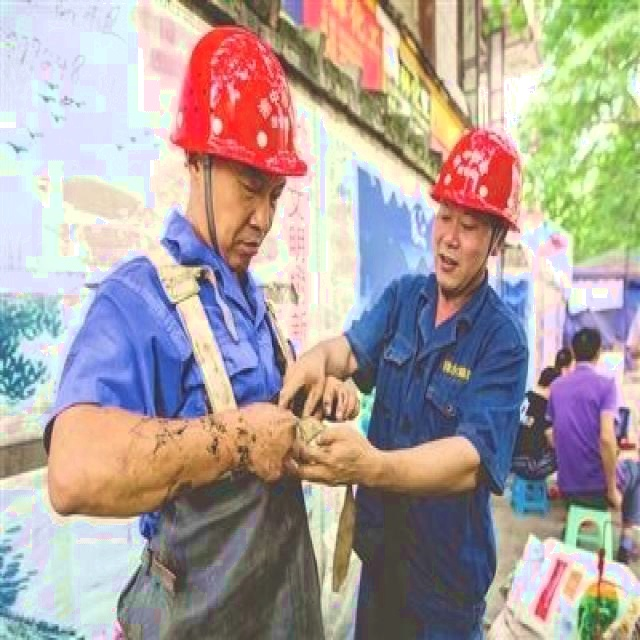Con_Casco: (179, 24, 310, 255), (435, 130, 519, 285)
